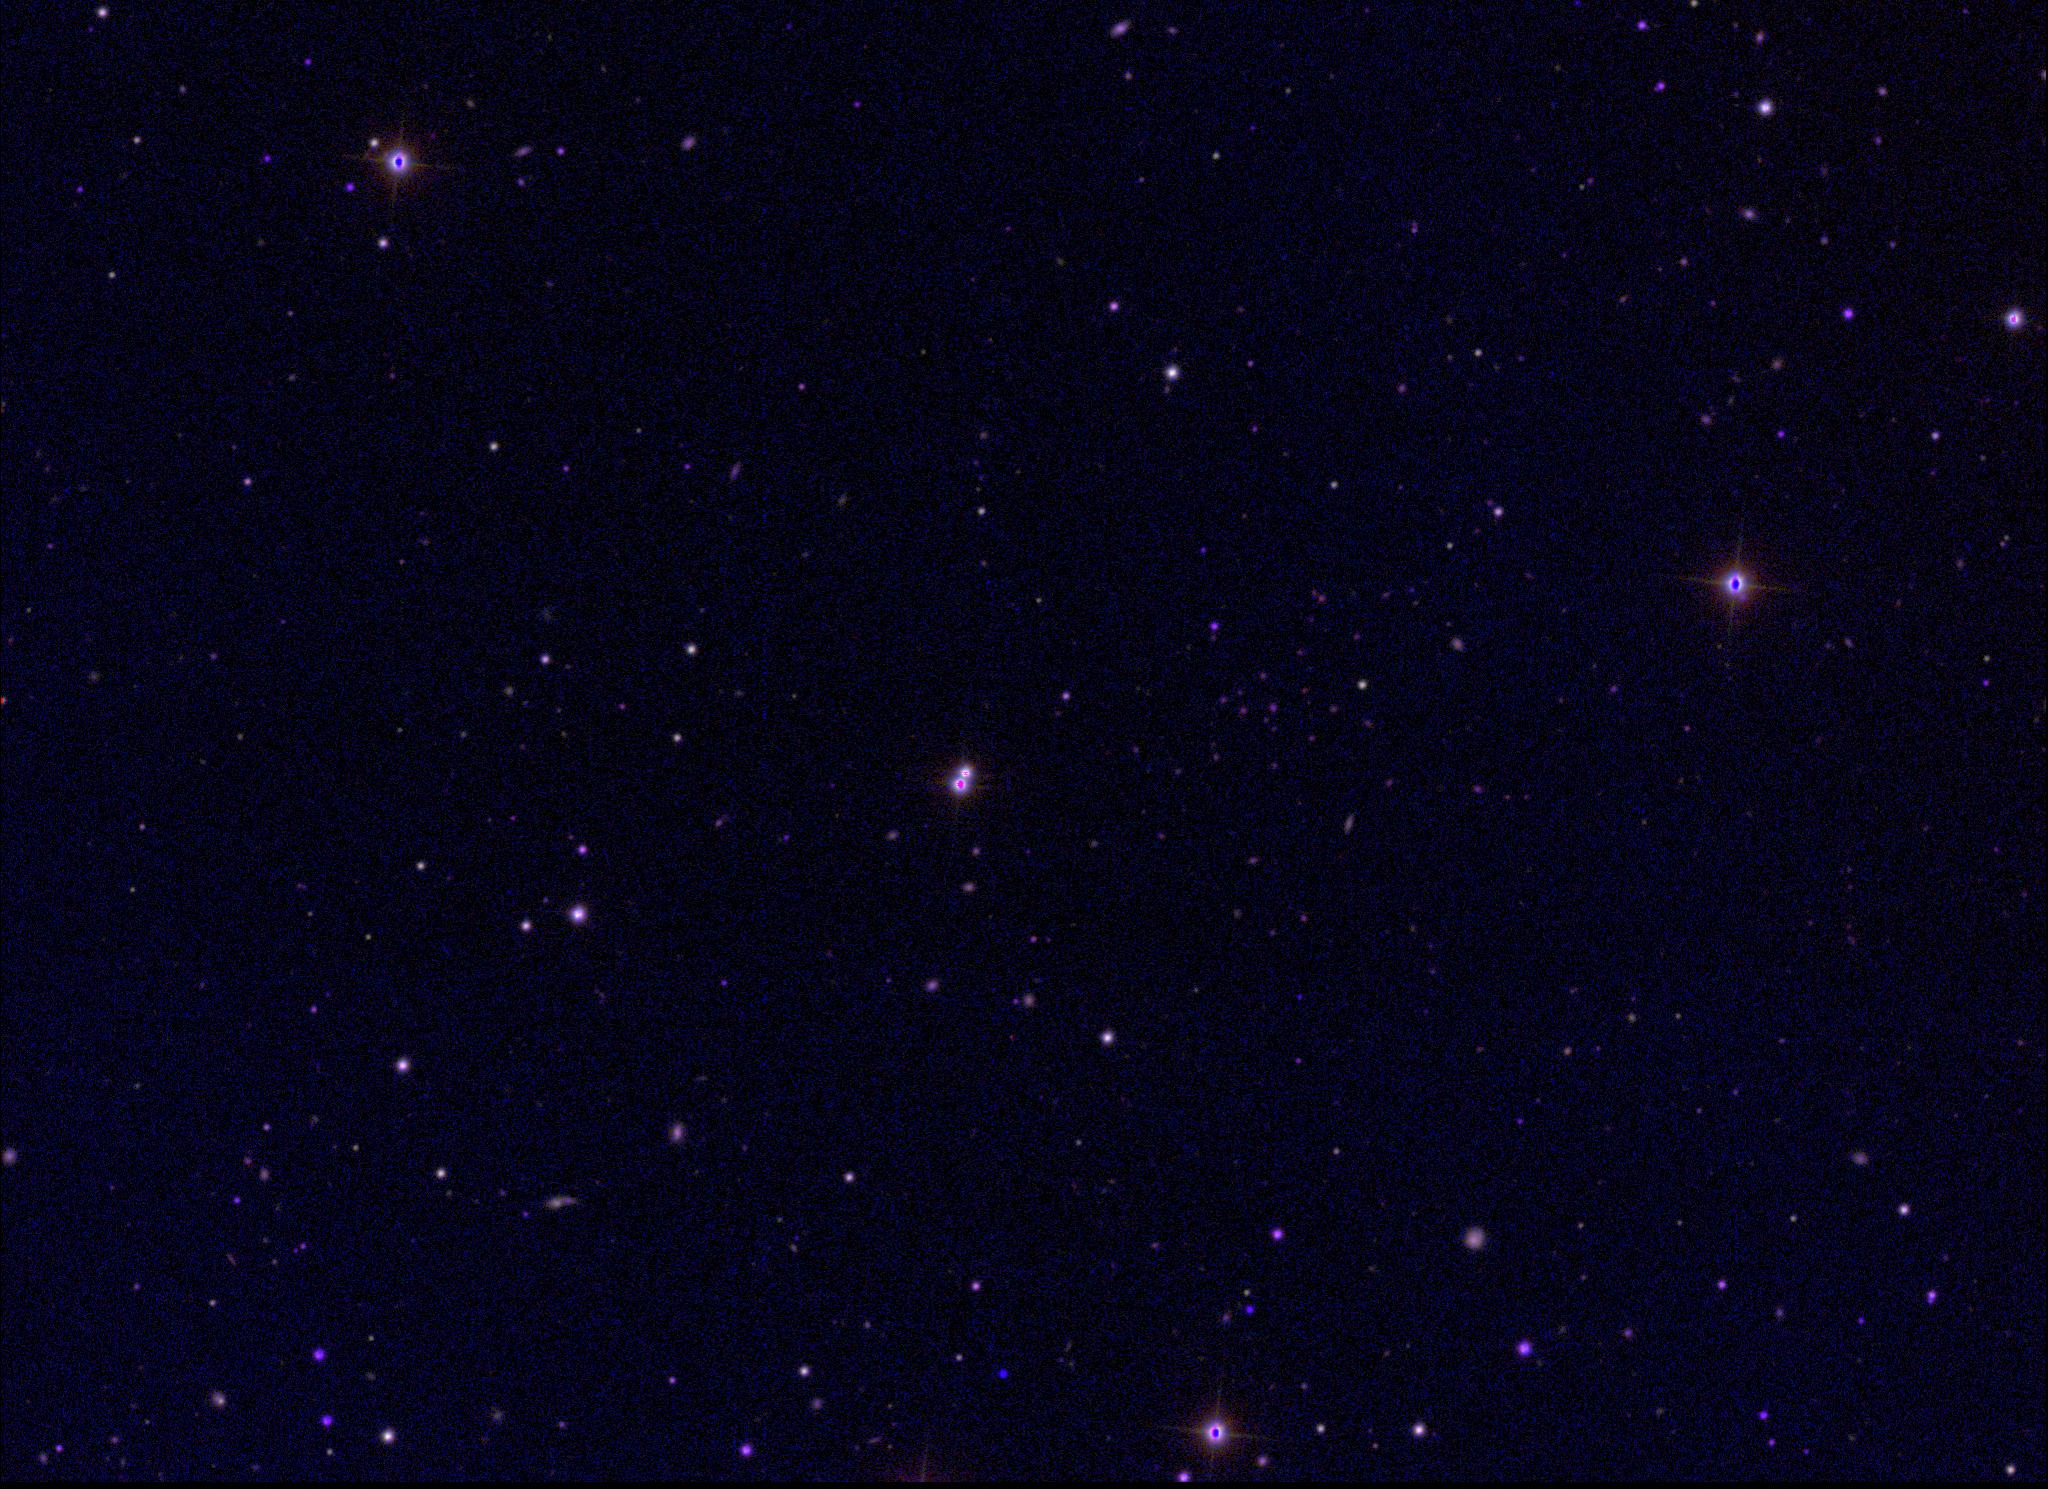L: (995, 1368, 1010, 1382)
